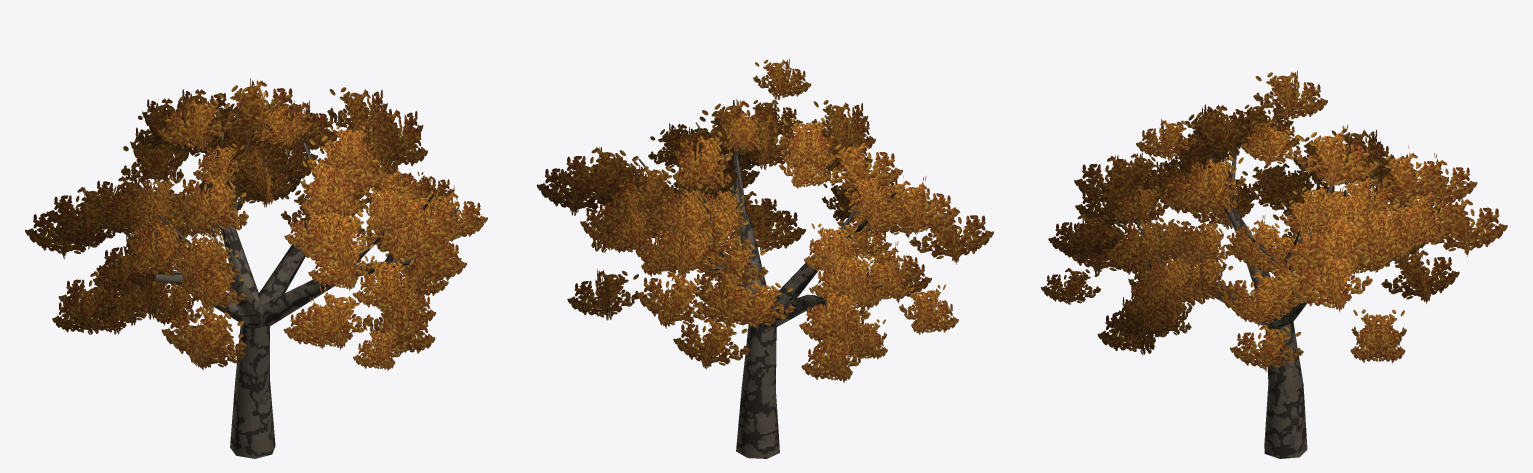
Rendered from oak0_autumn_lod0.fbx.
3 renders of one model, left to right at view 1: azimuth 30°, elevation 25°; view 2: azimuth 150°, elevation 25°; view 3: azimuth 270°, elevation 25°, orthographic. The views are drawn at different scales.
Parts seen in each view (by area): view 1: oak0_autumn_lod0; view 2: oak0_autumn_lod0; view 3: oak0_autumn_lod0.
Part boxes in pixels (box(x1,y1,x2,y2)): oak0_autumn_lod0: box(25, 78, 487, 458); oak0_autumn_lod0: box(536, 59, 993, 458); oak0_autumn_lod0: box(1041, 70, 1507, 458).
Size of the model in its own units: 10.35 by 9.31 by 10.53.
Materials: 2 (2 with a texture image).
